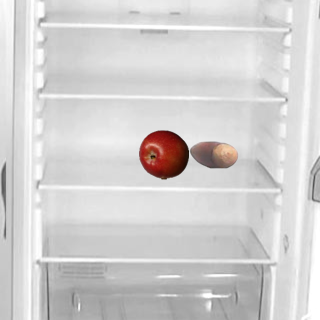Apple Braeburn: (138, 129, 188, 179)
Hazelnut: (188, 129, 238, 179)
